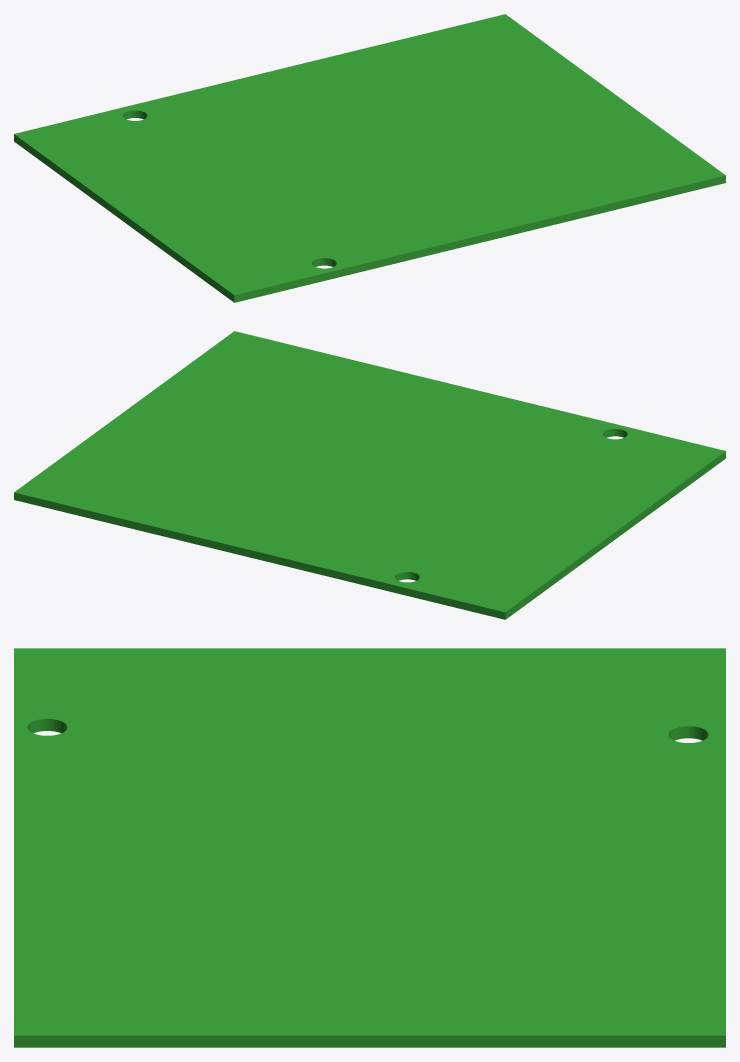
3 views of the same model, one above another, from view 1: azimuth 30°, elevation 25°; view 2: azimuth 150°, elevation 25°; view 3: azimuth 270°, elevation 25° (orthographic). The views are drawn at different scales.
Visible parts, largest first — view 1: out; view 2: out; view 3: out.
Part boxes in pixels (x1=…): out: x1=14, y1=14, x2=725, y2=302; out: x1=14, y1=331, x2=725, y2=619; out: x1=14, y1=648, x2=725, y2=1047.
Size of the model in its own units: 0.0686 by 0.001 by 0.0533.
